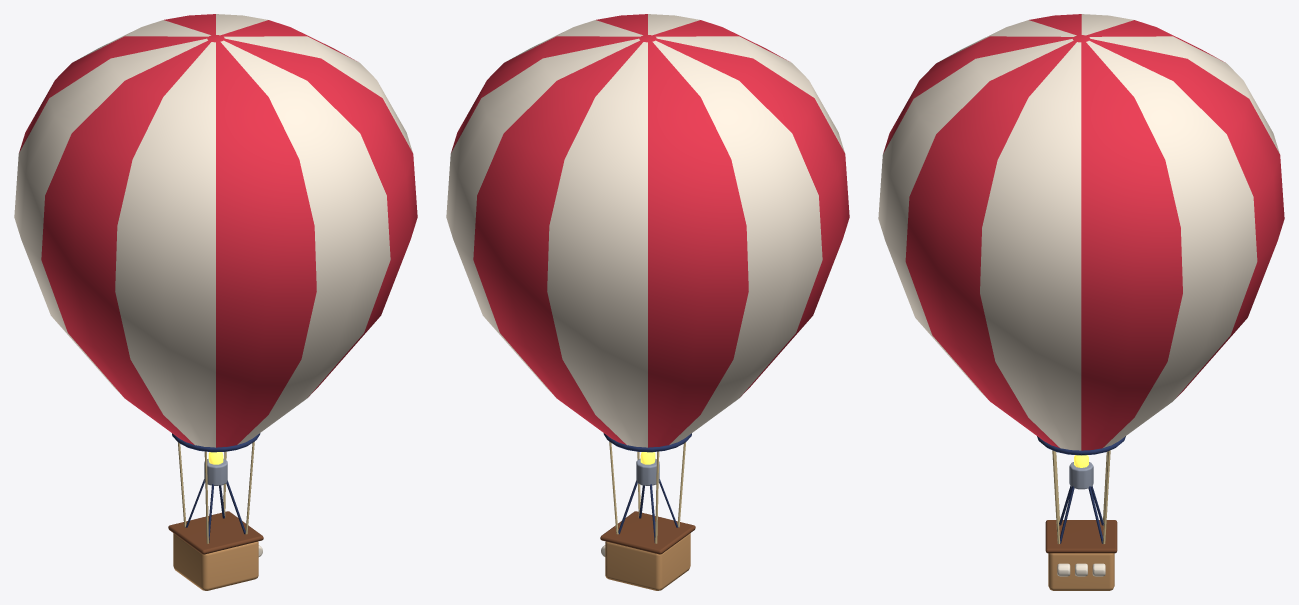
The model's file is sky_balloon.glb.
3 renders of one model, left to right at view 1: azimuth 30°, elevation 25°; view 2: azimuth 150°, elevation 25°; view 3: azimuth 270°, elevation 25°, orthographic.
Parts seen in each view (by area): view 1: Balloon; view 2: Balloon; view 3: Balloon.
Boxes of the visible parts, bbox=[...] form: Balloon: bbox=[14, 14, 417, 590]; Balloon: bbox=[446, 14, 849, 590]; Balloon: bbox=[878, 14, 1284, 590].
Size of the model in its own units: 9.2 by 13.5 by 9.2.
